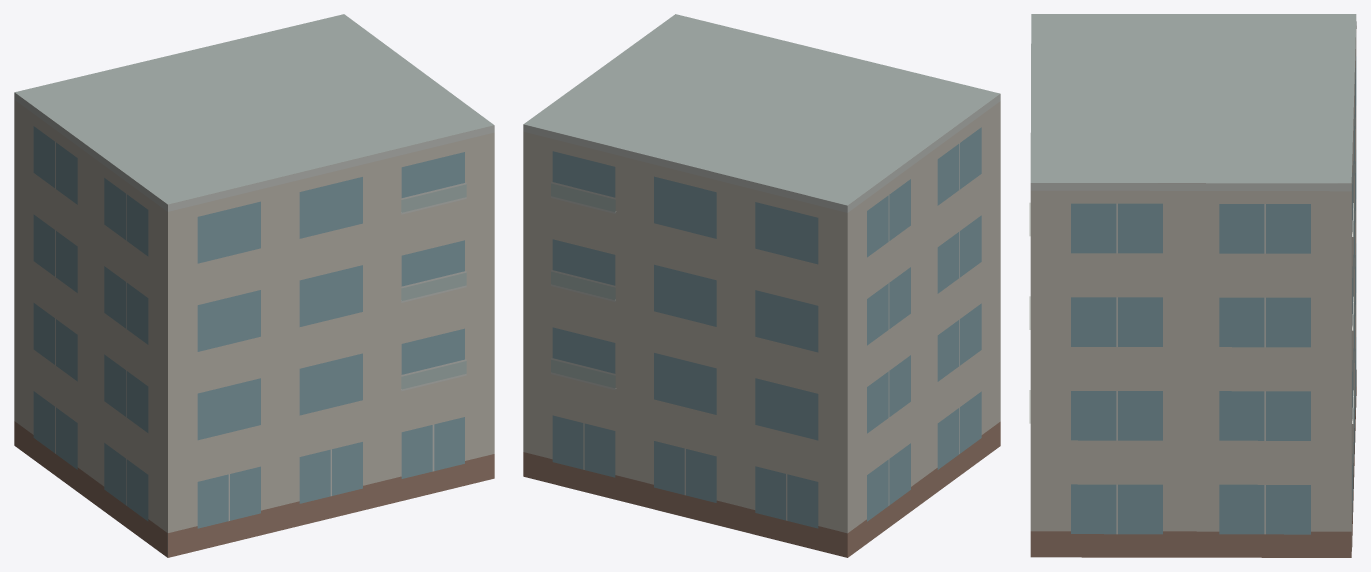
File: survey-upis-32638441.glb
3 renders of one model, left to right at view 1: azimuth 30°, elevation 25°; view 2: azimuth 150°, elevation 25°; view 3: azimuth 270°, elevation 25°, orthographic. The views are drawn at different scales.
Visible parts, largest first — view 1: survey-upis-32638441.tmp; view 2: survey-upis-32638441.tmp; view 3: survey-upis-32638441.tmp.
Part boxes in pixels (x1=…): survey-upis-32638441.tmp: x1=14, y1=14, x2=494, y2=557; survey-upis-32638441.tmp: x1=523, y1=14, x2=1000, y2=557; survey-upis-32638441.tmp: x1=1029, y1=14, x2=1356, y2=557.
Bounding box in the file's own units: 11.36 × 11.7 × 9.27.
